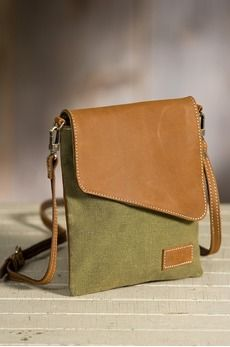cuero: (47, 96, 222, 289)
